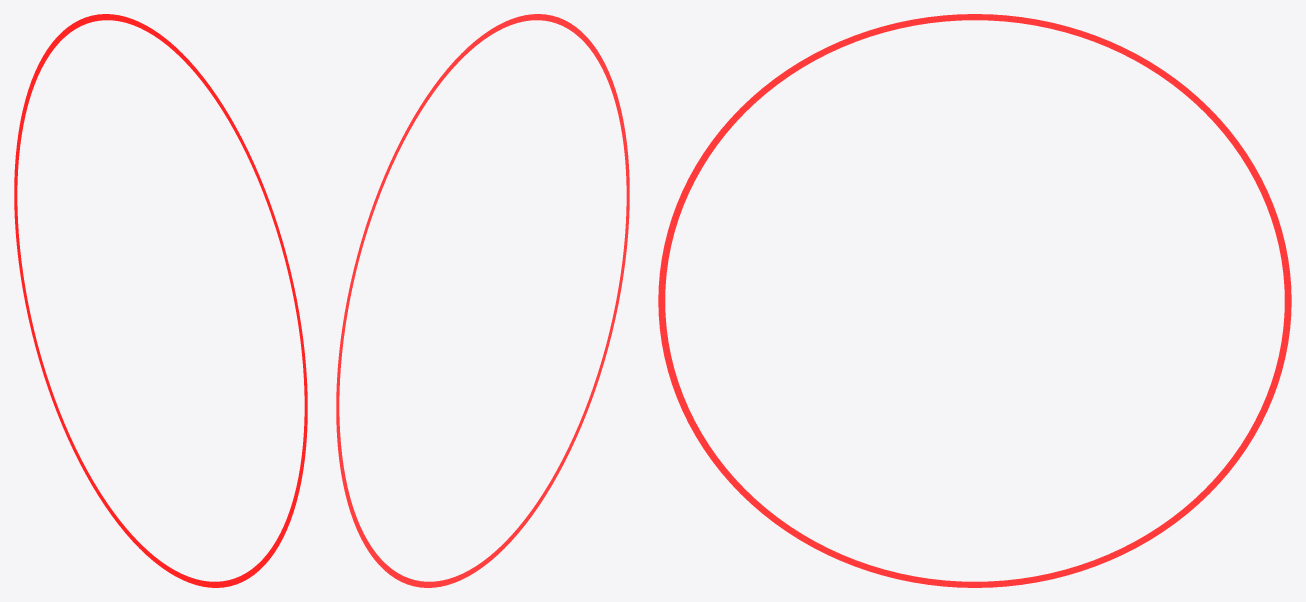
File: Ring.fbx
3 renders of one model, left to right at view 1: azimuth 30°, elevation 25°; view 2: azimuth 150°, elevation 25°; view 3: azimuth 270°, elevation 25°, orthographic. The views are drawn at different scales.
Parts seen in each view (by area): view 1: Circle; view 2: Circle; view 3: Circle.
Boxes of the visible parts, x1,y1,x2,y2 form: Circle: [14, 14, 307, 587]; Circle: [336, 14, 629, 587]; Circle: [658, 14, 1291, 587].
Bounding box in the file's own units: 1.23e-05 × 199 × 199.
